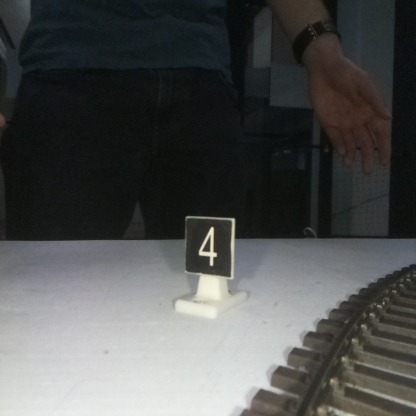black-stop-4: (185, 218, 232, 310)
